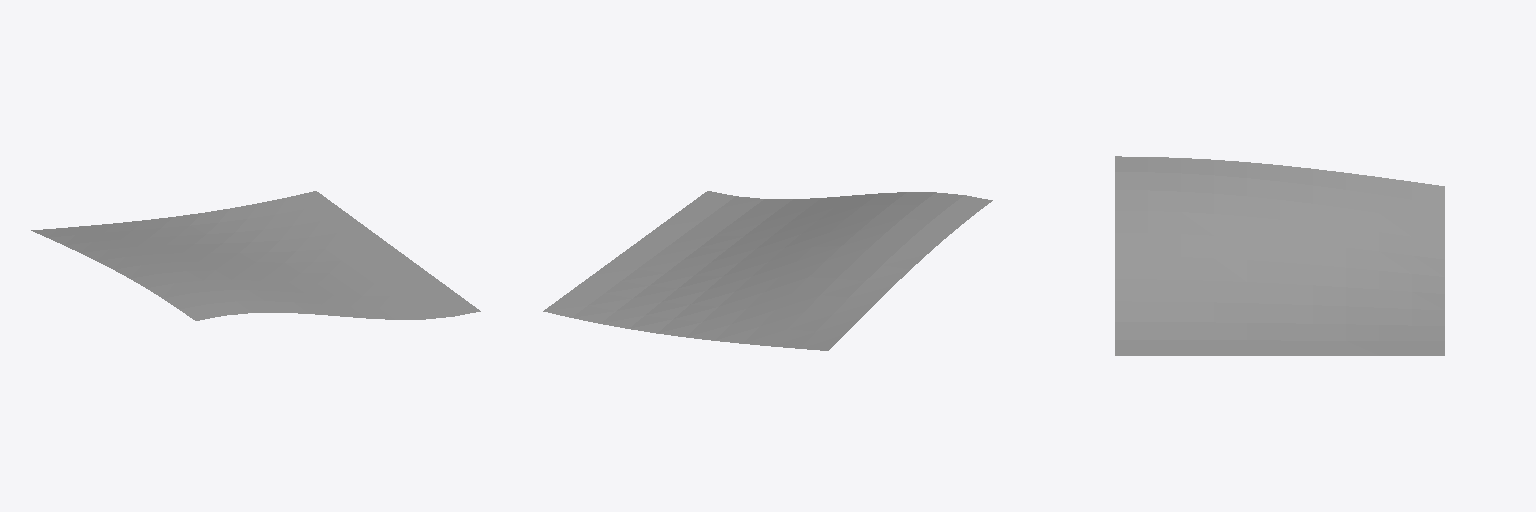
Rendered from grass_bottom_to_top_mid.obj.
3 renders of one model, left to right at view 1: azimuth 30°, elevation 25°; view 2: azimuth 150°, elevation 25°; view 3: azimuth 270°, elevation 25°, orthographic.
Visible parts, largest first — view 1: Grass_Plane.015; view 2: Grass_Plane.015; view 3: Grass_Plane.015.
Part boxes in pixels (x1,y1,x2,y2): Grass_Plane.015: (31, 191, 480, 320); Grass_Plane.015: (543, 191, 992, 350); Grass_Plane.015: (1115, 156, 1444, 355).
Size of the model in its own units: 10 by 2 by 10.